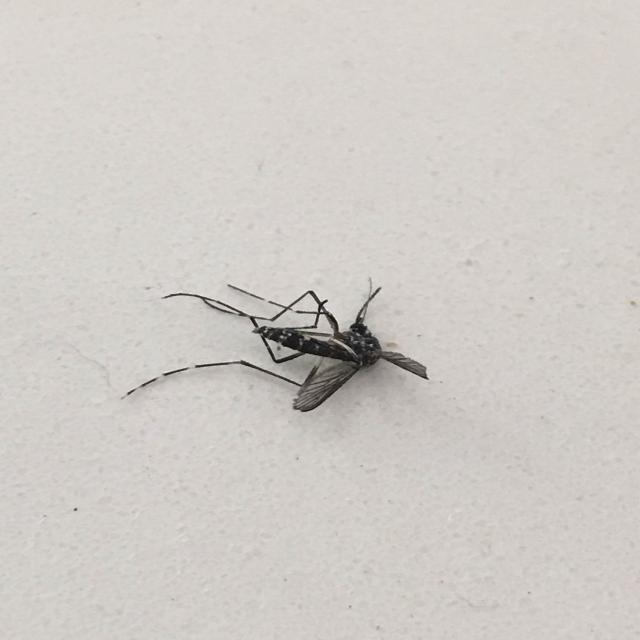albopictus: (121, 257, 444, 423)
